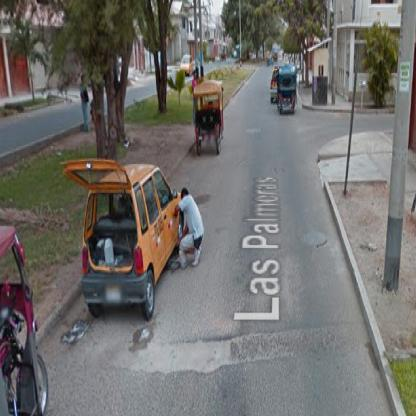Peaton: (175, 188, 205, 268)
Pista: (18, 42, 386, 385)
Vehiculo: (61, 161, 185, 322), (195, 81, 225, 157), (279, 64, 297, 115), (181, 55, 195, 77)
